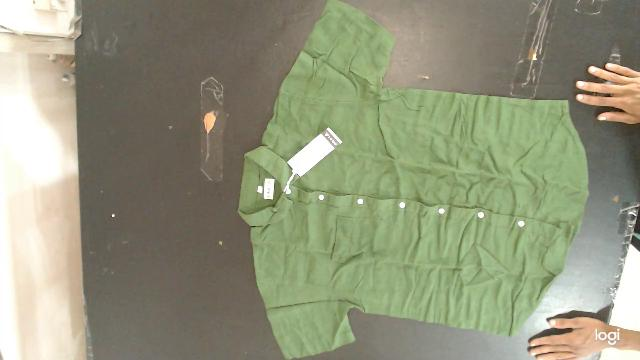new-garment: (238, 0, 588, 359)
